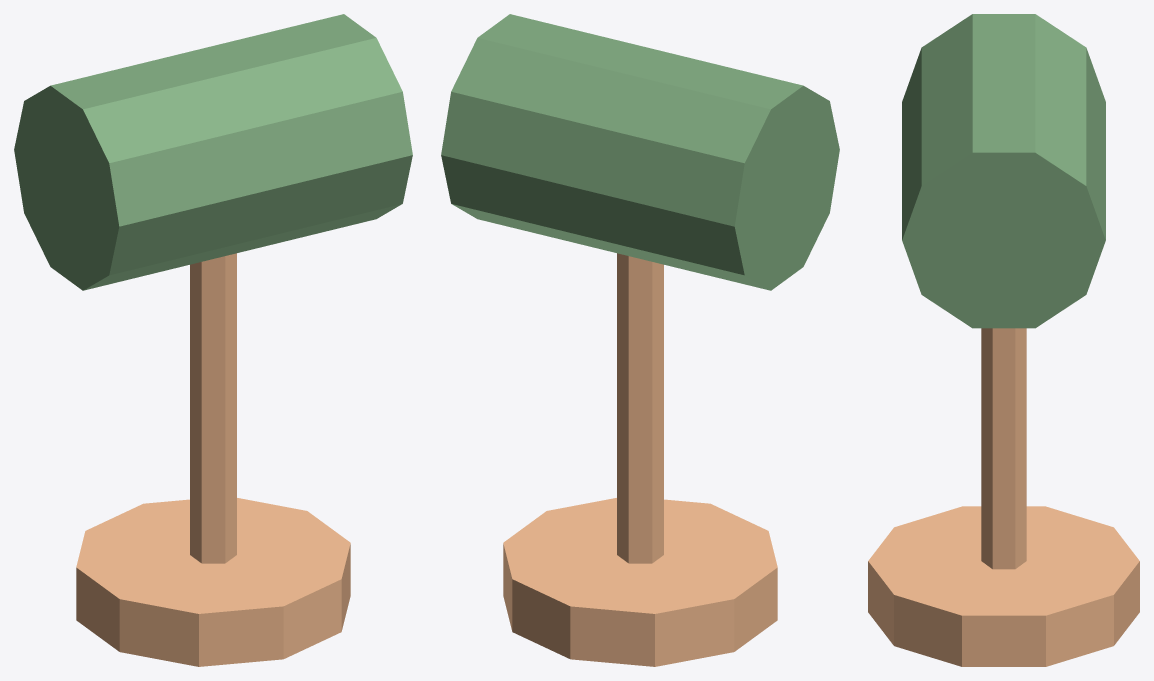
3 views of the same model, side by side, from view 1: azimuth 30°, elevation 25°; view 2: azimuth 150°, elevation 25°; view 3: azimuth 270°, elevation 25° (orthographic). The views are drawn at different scales.
Visible parts, largest first — view 1: Shade, Foot, Stem; view 2: Shade, Foot, Stem; view 3: Shade, Foot, Stem.
Boxes of the visible parts, x1,y1,x2,y2 form: Shade: (14,14,412,290); Foot: (76,498,350,666); Stem: (190,253,236,563); Shade: (441,14,839,290); Foot: (503,498,777,666); Stem: (617,253,663,563); Shade: (902,14,1105,328); Foot: (868,506,1139,666); Stem: (981,328,1026,569).
Bounding box in the file's own units: 0.29 × 0.5156 × 0.24.
1 material, 1 textured.
